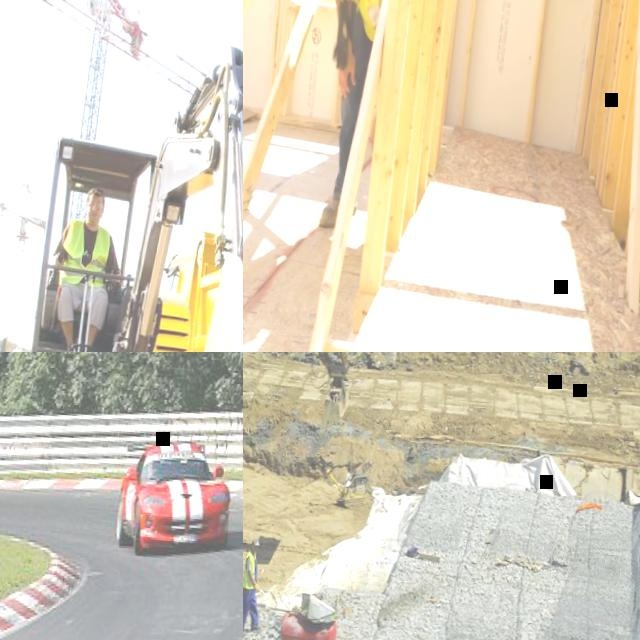NO-Hardhat: (88, 186, 105, 198), (252, 536, 260, 546)
NO-Mask: (85, 211, 100, 225), (251, 548, 257, 552)
NO-Safety Vest: (59, 219, 114, 283)
Person: (297, 0, 402, 231), (45, 183, 130, 352), (243, 535, 267, 635)
Safety Vest: (316, 0, 399, 42), (243, 551, 261, 589)
machinery: (0, 17, 243, 352), (243, 352, 364, 583), (138, 129, 243, 352)
vehicle: (112, 432, 239, 564)
